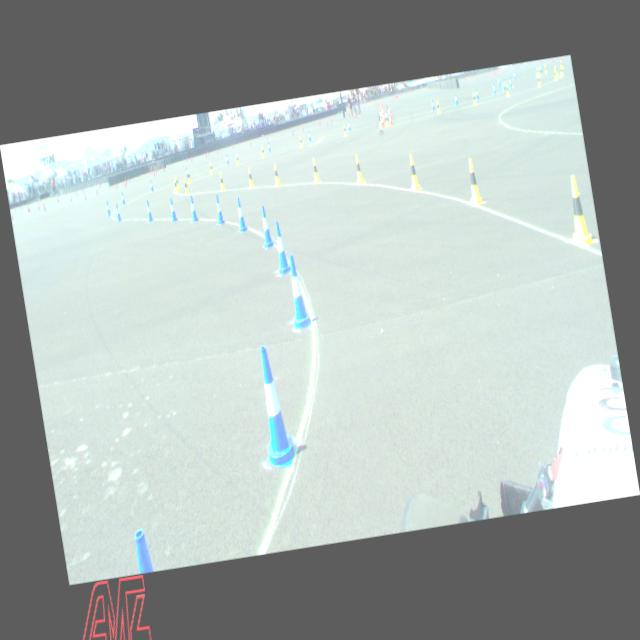blue_cone: (248, 343, 301, 470), (284, 253, 312, 329), (272, 220, 292, 275), (257, 206, 275, 250), (234, 197, 248, 232), (212, 194, 226, 225), (188, 196, 198, 222), (168, 197, 178, 222), (144, 200, 154, 222), (115, 203, 122, 221), (105, 200, 112, 216), (474, 88, 480, 99), (121, 191, 126, 204), (492, 82, 496, 96), (430, 99, 435, 110), (453, 94, 458, 105), (308, 130, 312, 142), (385, 110, 389, 122), (508, 76, 512, 88), (497, 76, 501, 88), (502, 80, 506, 92), (348, 120, 352, 131), (150, 180, 154, 190), (512, 72, 516, 80), (268, 142, 271, 152), (186, 168, 189, 178), (226, 154, 229, 164), (540, 64, 542, 72)
large_orange_cone: (386, 105, 394, 125), (378, 108, 384, 128), (380, 106, 386, 122), (388, 103, 392, 120)
yellow_cone: (562, 174, 596, 246), (463, 157, 482, 205), (406, 154, 421, 190), (353, 153, 365, 184), (310, 158, 320, 183), (272, 163, 280, 186), (247, 166, 255, 188), (218, 172, 226, 190), (183, 178, 189, 194), (471, 91, 477, 105), (298, 136, 304, 148), (342, 124, 348, 136), (536, 74, 541, 87), (504, 83, 509, 96), (384, 114, 389, 126), (174, 178, 178, 193), (175, 176, 180, 188), (187, 171, 192, 183), (436, 101, 440, 114), (554, 68, 558, 80), (261, 146, 265, 158), (236, 154, 240, 166), (560, 65, 564, 76), (536, 67, 540, 77), (560, 60, 564, 69), (210, 162, 213, 174), (544, 64, 547, 74), (555, 66, 558, 76), (538, 68, 541, 76)
